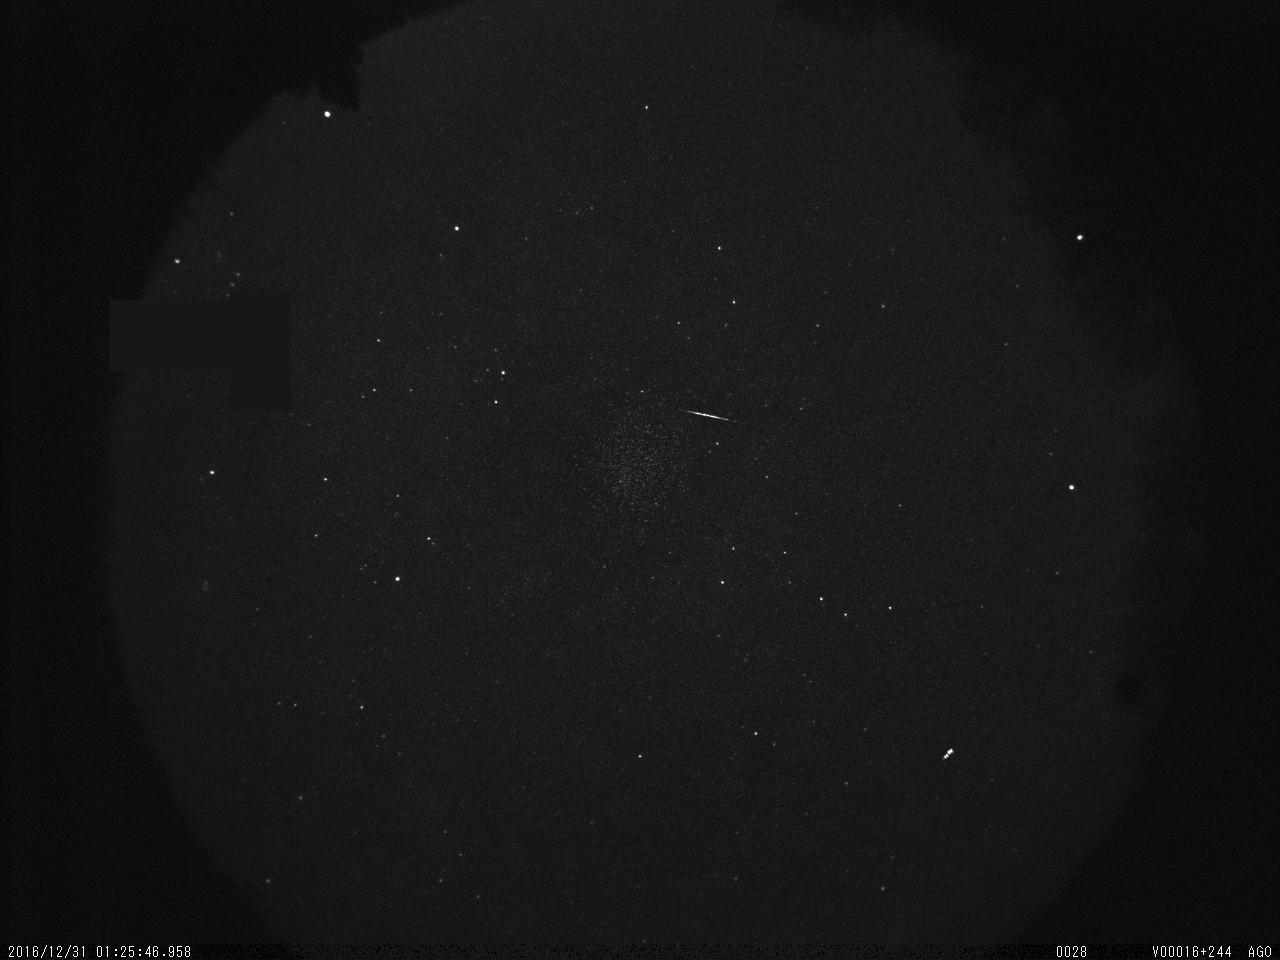Meteor: (670, 398, 743, 434)
